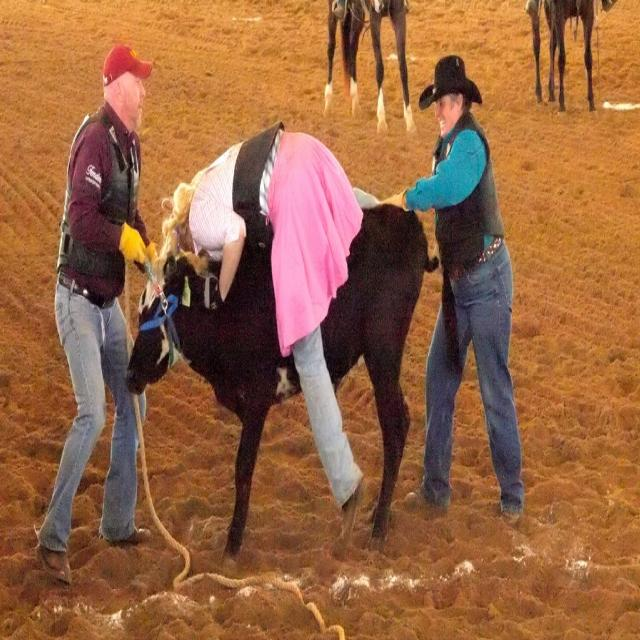Cattle: (124, 204, 464, 575), (324, 0, 417, 135), (530, 0, 593, 111)
